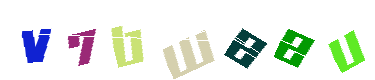2: (205, 0, 285, 80), (253, 0, 333, 80)
7: (46, 0, 126, 80)
B: (127, 0, 207, 80)
U: (294, 0, 374, 80)
V: (0, 0, 80, 80)
W: (145, 0, 225, 80)
